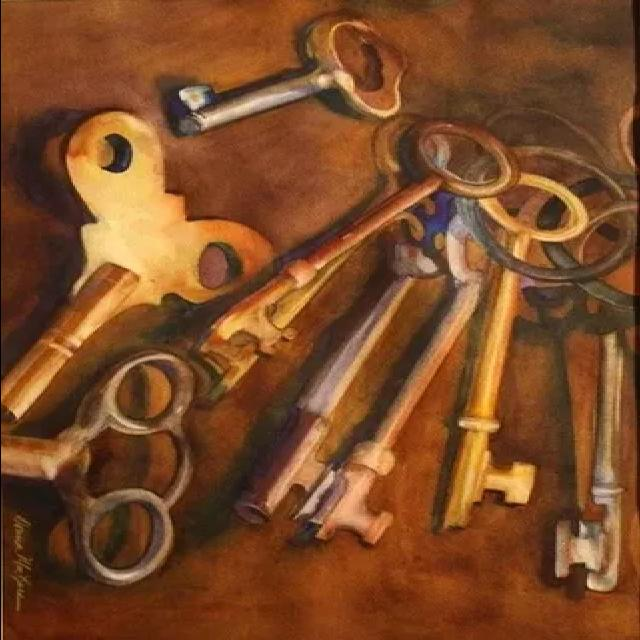key: (429, 176, 585, 540), (171, 7, 413, 143)
